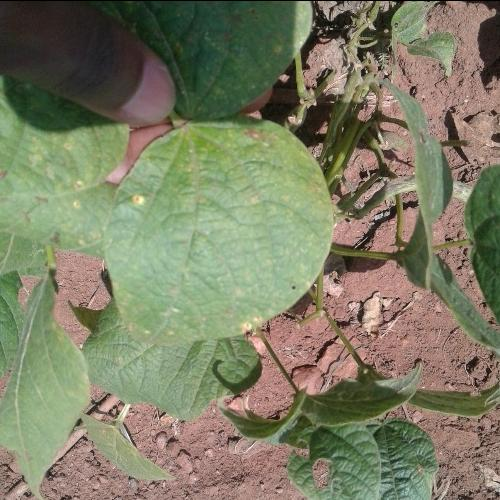hawar: (240, 126, 285, 154)
mozaik: (149, 162, 276, 303)
